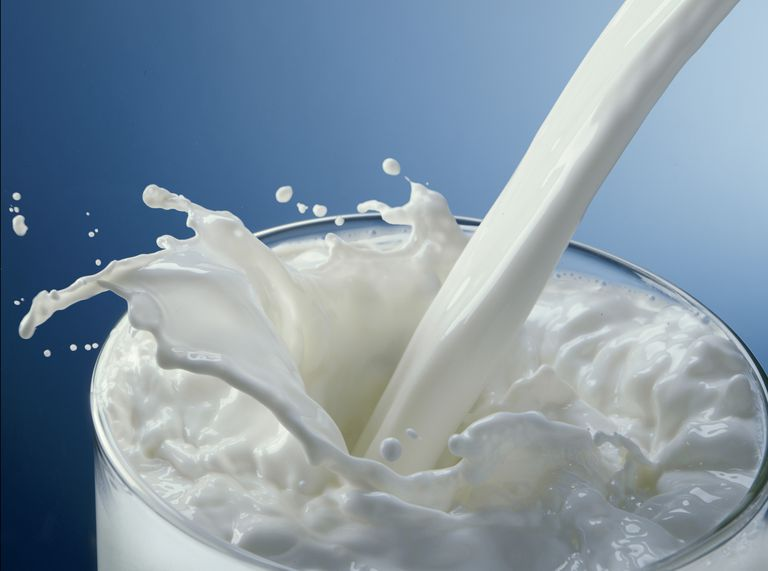glass of milk: (180, 235, 664, 550)
